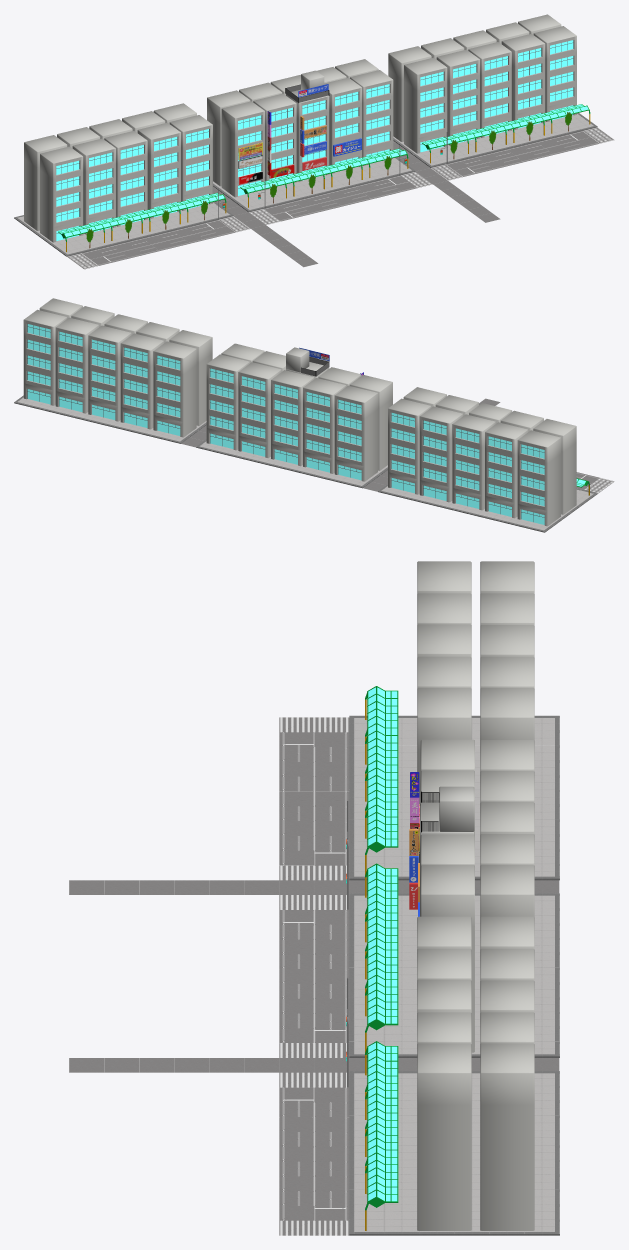
The model's file is shopping-street.glb.
3 renders of one model, top to bottom at view 1: azimuth 30°, elevation 25°; view 2: azimuth 150°, elevation 25°; view 3: azimuth 270°, elevation 25°, orthographic. The views are drawn at different scales.
Visible parts, largest first — view 1: building-copy, load, sidewalk-copy, arcade-copy, soba-buil-hontai, sidewalk-base-copy, kusuriya-base, tk-building-hontai, arcade-yane-copy, chintai-shop-over3f, load-side-tree-copy, chintai-shop-top-base (+3 smaller); view 2: building-copy, sidewalk-copy, soba-buil-hontai, load, sidewalk-base-copy, sidewaik-frame-copy, chinta-shop-tokki, tk-building-hontai, kusuriya-base; view 3: building-copy, load, sidewalk-copy, arcade-copy, sidewalk-base-copy, arcade-yane-copy, sidewaik-frame-copy, soba-buil-hontai, kusuriya-base, chinta-shop-tokki, tk-building-hontai.
Part boxes in pixels (<box>): building-copy: <box>24,14,576,242</box>; load: <box>67,127,614,269</box>; sidewalk-copy: <box>14,113,597,256</box>; arcade-copy: <box>58,104,590,251</box>; soba-buil-hontai: <box>221,101,264,197</box>; sidewalk-base-copy: <box>213,158,411,209</box>; kusuriya-base: <box>324,77,362,173</box>; tk-building-hontai: <box>253,93,296,189</box>; arcade-yane-copy: <box>240,148,407,193</box>; chintai-shop-over3f: <box>296,112,329,150</box>; load-side-tree-copy: <box>86,112,571,248</box>; chintai-shop-top-base: <box>286,89,329,119</box>; building-copy: <box>23,298,576,526</box>; sidewalk-copy: <box>14,395,597,532</box>; soba-buil-hontai: <box>349,374,392,470</box>; load: <box>181,356,614,493</box>; sidewalk-base-copy: <box>199,441,387,485</box>; sidewaik-frame-copy: <box>196,439,387,488</box>; chinta-shop-tokki: <box>286,347,309,372</box>; tk-building-hontai: <box>318,367,361,386</box>; kusuriya-base: <box>252,351,285,371</box>; building-copy: <box>417,561,534,1230</box>; load: <box>69,717,559,1235</box>; sidewalk-copy: <box>349,715,559,1235</box>; arcade-copy: <box>365,686,398,1230</box>; sidewalk-base-copy: <box>354,895,554,1054</box>; arcade-yane-copy: <box>367,863,398,1030</box>; sidewaik-frame-copy: <box>349,893,559,1057</box>; soba-buil-hontai: <box>420,739,474,770</box>; kusuriya-base: <box>420,834,474,865</box>; chinta-shop-tokki: <box>439,786,474,831</box>; tk-building-hontai: <box>420,770,474,834</box>.
Bounding box in the file's own units: 35 × 6 × 14.01.
33 materials, 22 textured.
